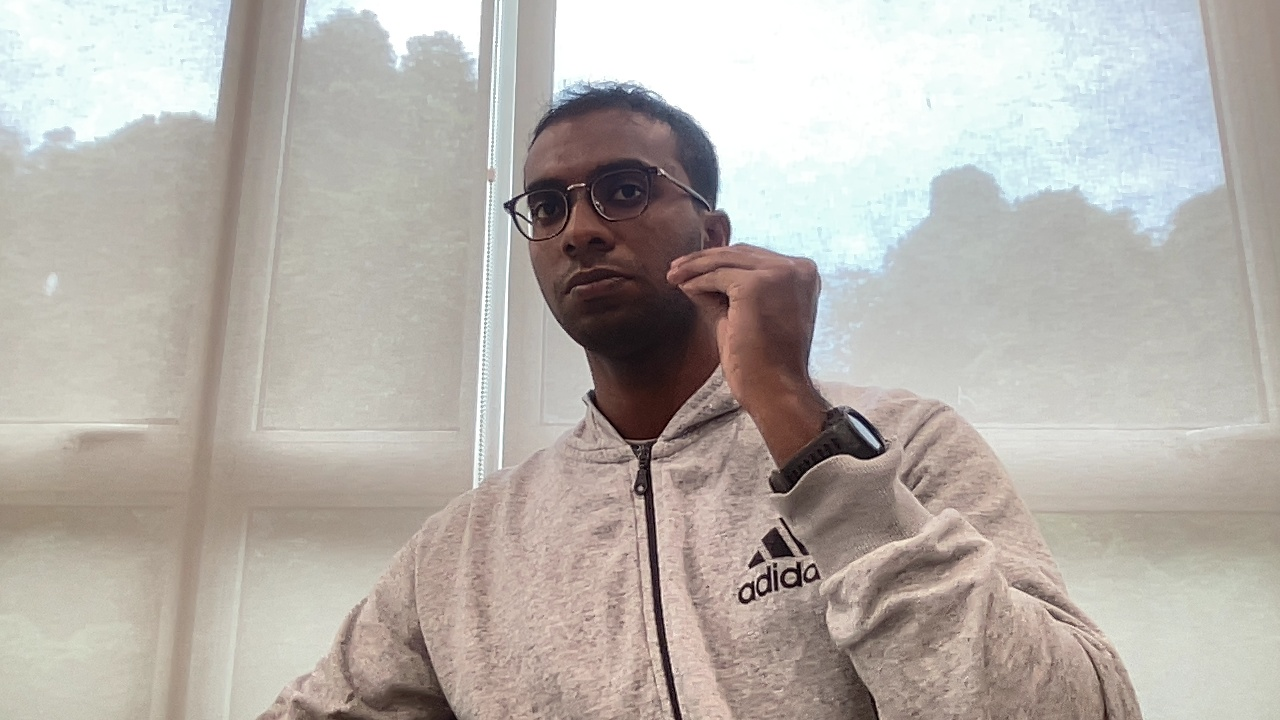eat: (662, 238, 828, 415)
